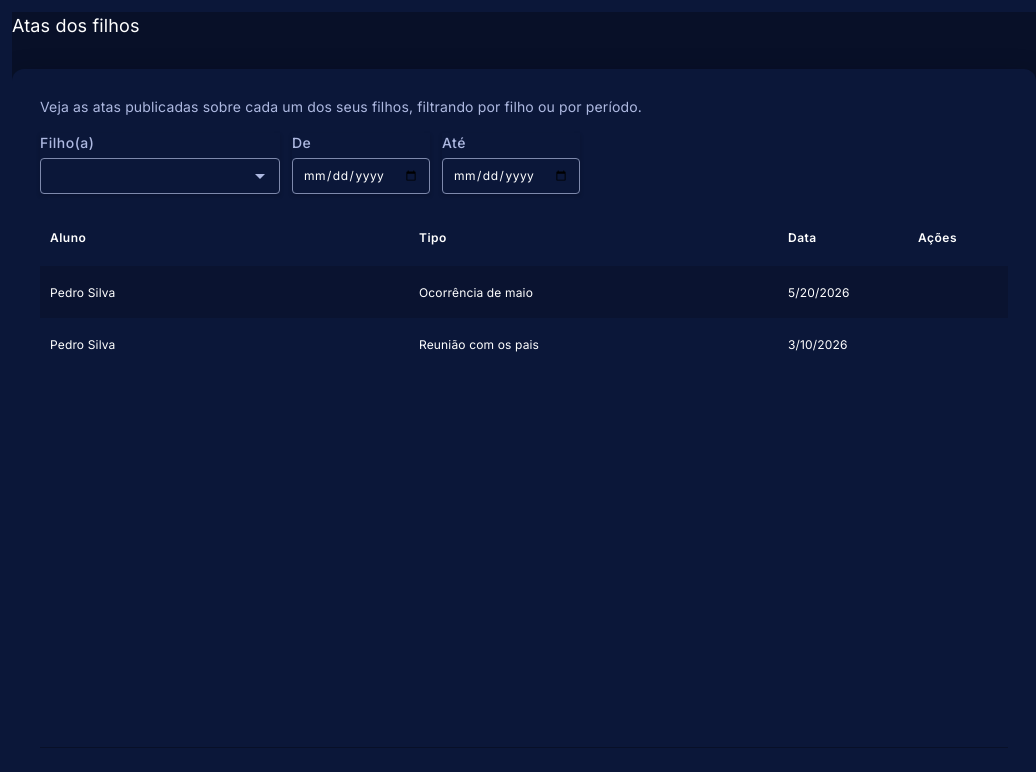
Test: MyAtas › narrows the list to a date range
Check: the text "Reunião com os pais" is shown, box [419, 337, 539, 352]
Check: the text "Ocorrência de maio" is shown, box [419, 285, 533, 300]
Type "2026-04-01" into the date field labelled "De" at (361,176), box [303, 167, 419, 185]
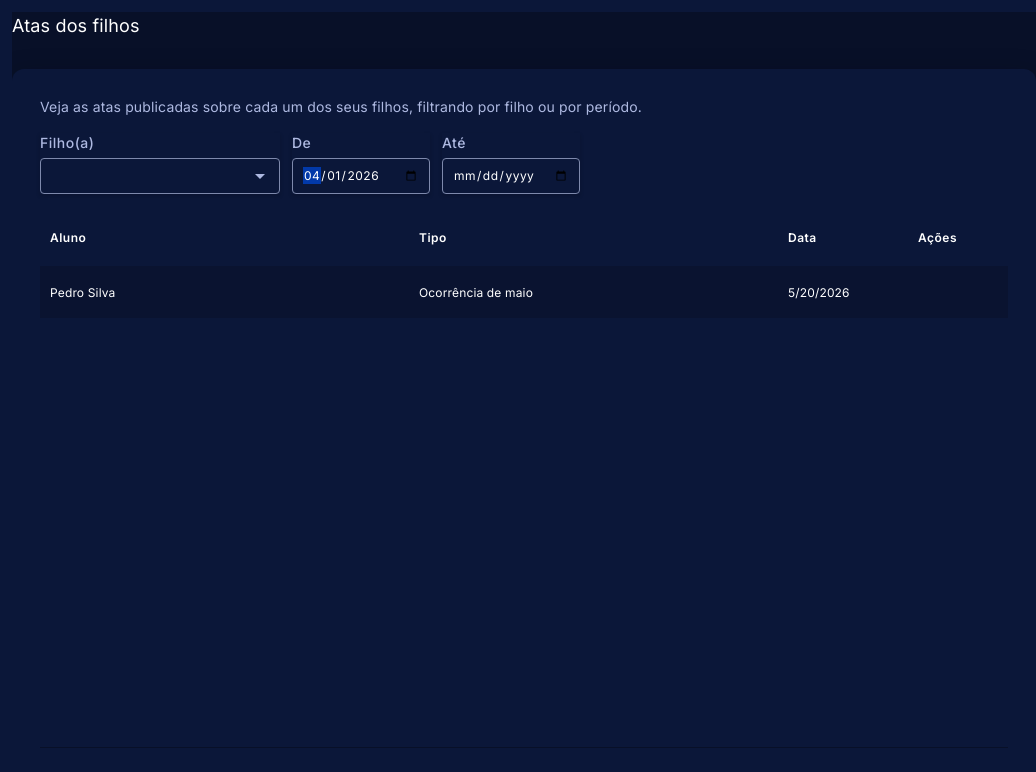
Check: the text "Ocorrência de maio" is shown, box [419, 285, 533, 300]
Check: the text "Reunião com os pais" is gone
